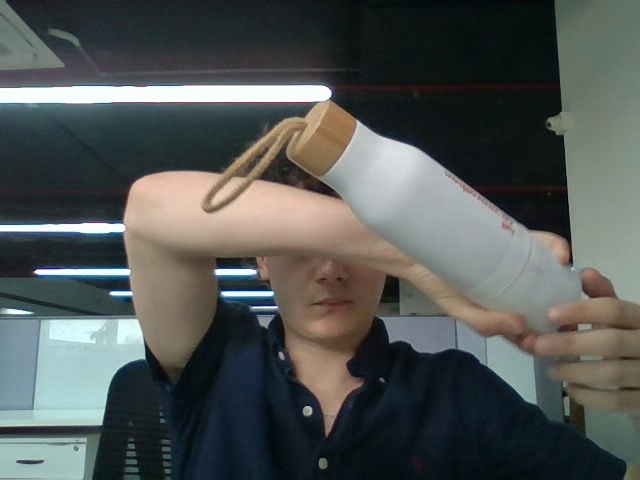cap: (278, 97, 365, 186)
